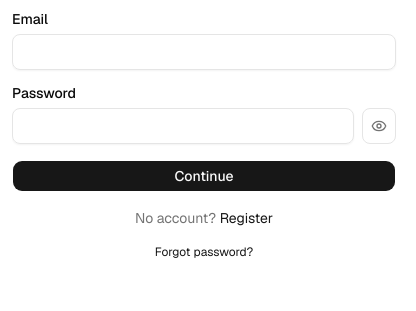
it: LoginForm › shows network error on generic failure
Type "a@b.com" into the field labelled "Email" at {"x": 204, "y": 52}, box [12,34,396,70]
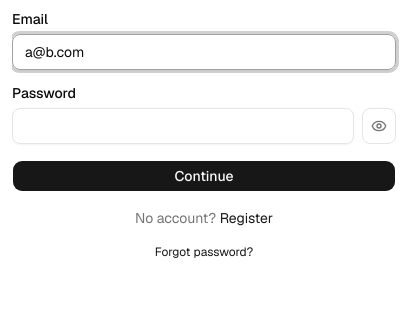
Type "secret1234" into the password field labelled "Password" at {"x": 183, "y": 126}, box [12,108,354,144]
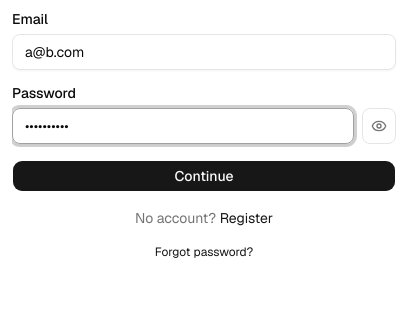
Click the button "Continue" at {"x": 204, "y": 176}, box [12,160,396,192]
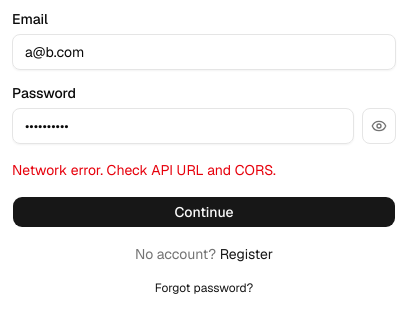
Result: the message "Network error. Check API URL and CORS." is shown at [12,161,276,179]
